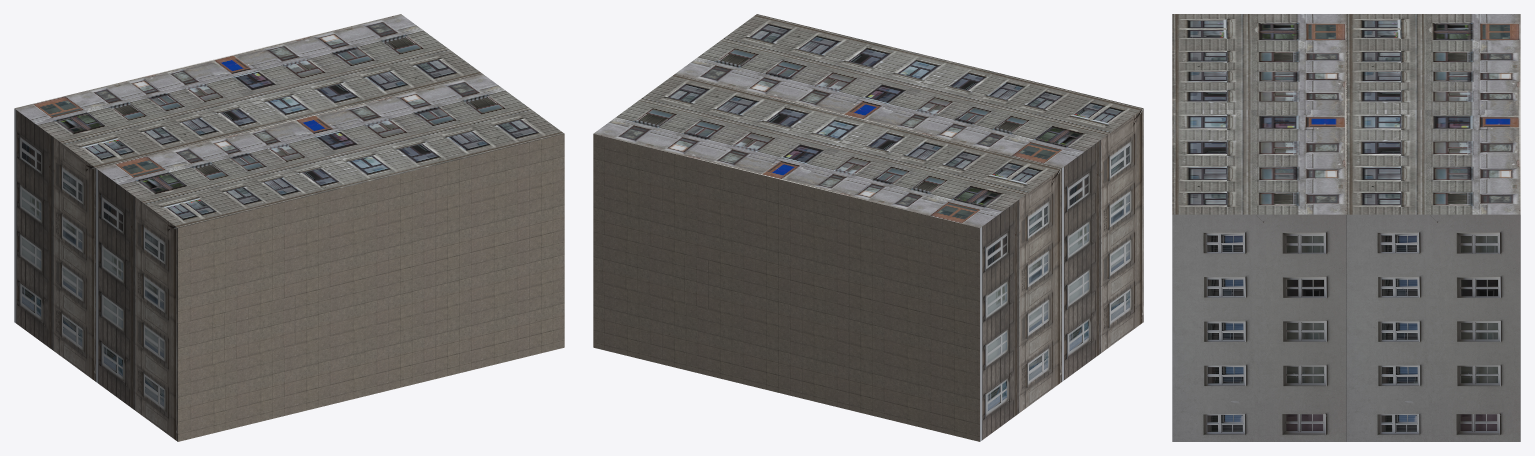
File: Building3.obj
3 views of the same model, side by side, from view 1: azimuth 30°, elevation 25°; view 2: azimuth 150°, elevation 25°; view 3: azimuth 270°, elevation 25° (orthographic). The views are drawn at different scales.
Visible parts, largest first — view 1: polySurface155; view 2: polySurface155; view 3: polySurface155.
Boxes of the visible parts, box(x1,y1,x2,y2) form: polySurface155: box(14, 14, 564, 441); polySurface155: box(593, 14, 1143, 441); polySurface155: box(1172, 14, 1520, 441).
Size of the model in its own units: 1.04 by 0.5483 by 0.7619.
Materials: 1 (1 with a texture image).
